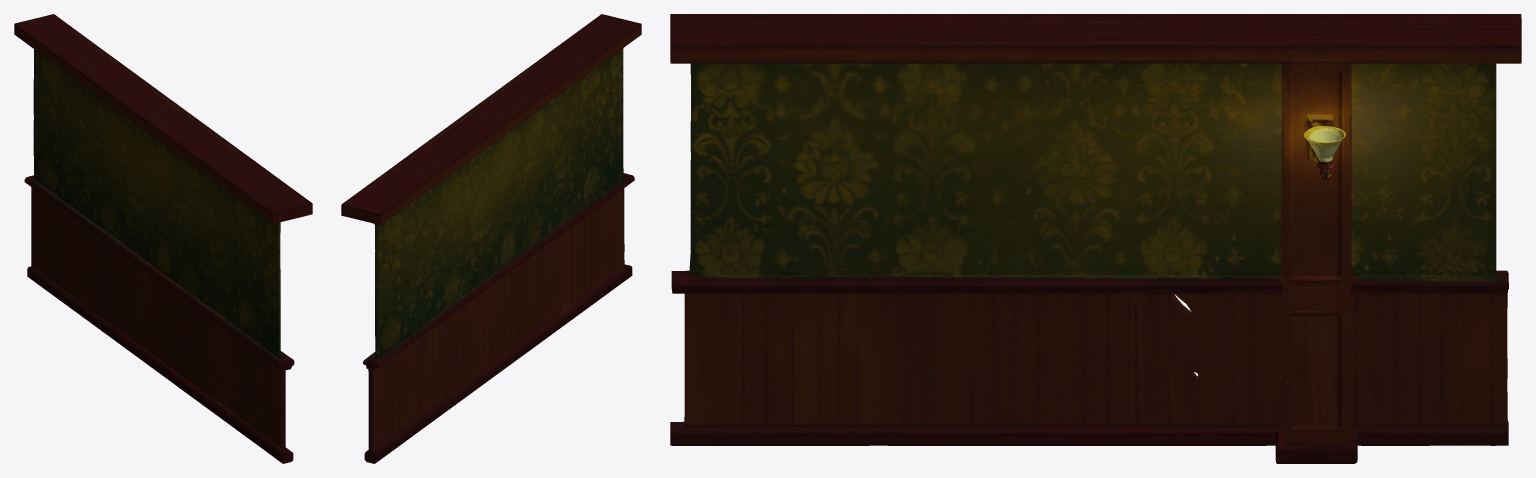
File: Pared.fbx
3 renders of one model, left to right at view 1: azimuth 30°, elevation 25°; view 2: azimuth 150°, elevation 25°; view 3: azimuth 270°, elevation 25°, orthographic. The views are drawn at different scales.
Parts seen in each view (by area): view 1: tripo_node_76303fe5; view 2: tripo_node_76303fe5; view 3: tripo_node_76303fe5.
Boxes of the visible parts, x1,y1,x2,y2 form: tripo_node_76303fe5: (14, 14, 312, 463); tripo_node_76303fe5: (341, 14, 641, 463); tripo_node_76303fe5: (670, 14, 1521, 463).
Bounding box in the file's own units: 0.1759 × 0.5409 × 0.9998.
Materials: 1 (1 with a texture image).
